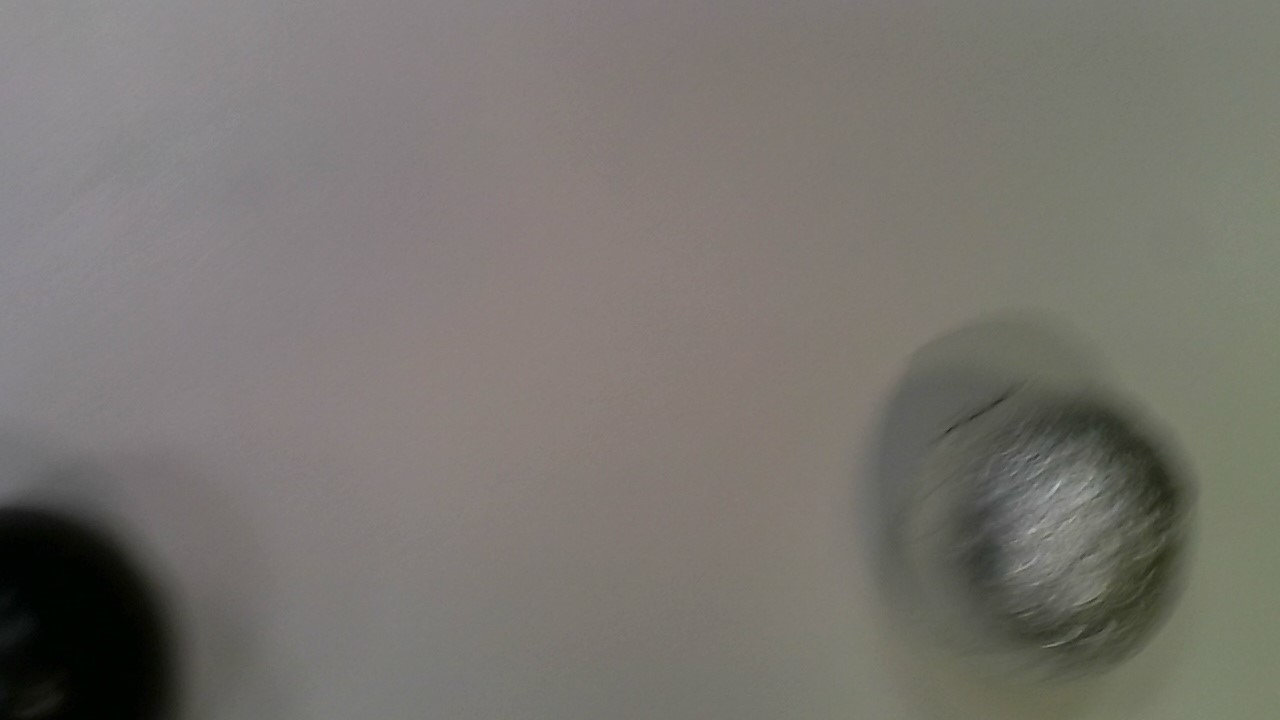silver_ball: (894, 376, 1204, 697)
